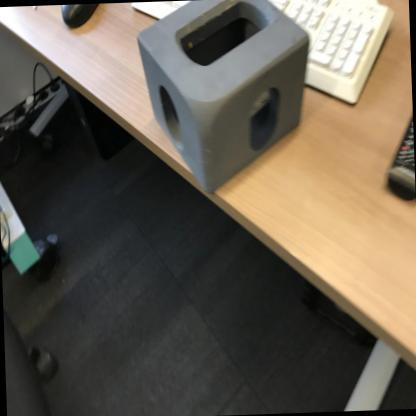CornerCasting: (133, 0, 318, 202)
